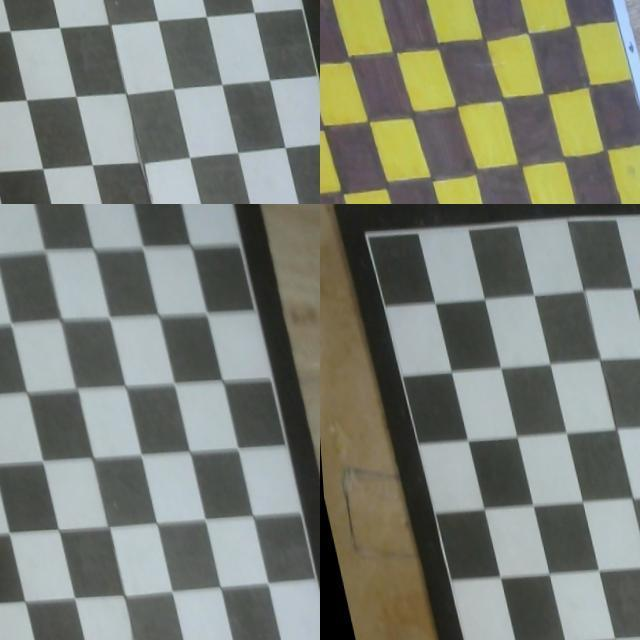chess-table-corners: (362, 226, 372, 241), (220, 204, 230, 210), (219, 0, 227, 5), (0, 204, 5, 211), (0, 0, 4, 6), (583, 0, 587, 1)
